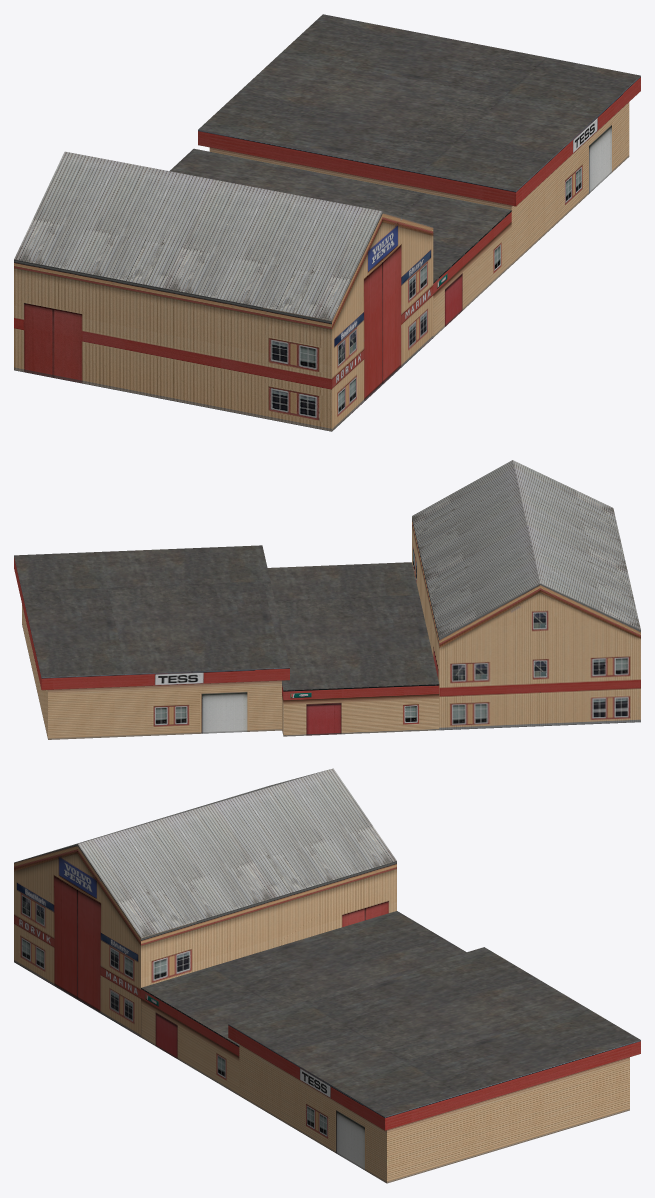
Rendered from SM_GenericBuilding_07.fbx.
The picture shows the model from 3 angles, top to bottom: view 1: azimuth 30°, elevation 25°; view 2: azimuth 150°, elevation 25°; view 3: azimuth 270°, elevation 25°; orthographic projection. The views are drawn at different scales.
Visible parts, largest first — view 1: SM_GenericBuilding_07; view 2: SM_GenericBuilding_07; view 3: SM_GenericBuilding_07.
Part boxes in pixels (box(x1,y1,x2,y2)): SM_GenericBuilding_07: box(14, 14, 640, 431); SM_GenericBuilding_07: box(14, 460, 640, 739); SM_GenericBuilding_07: box(14, 768, 640, 1183).
Bounding box in the file's own units: 1797 × 431 × 1571.
